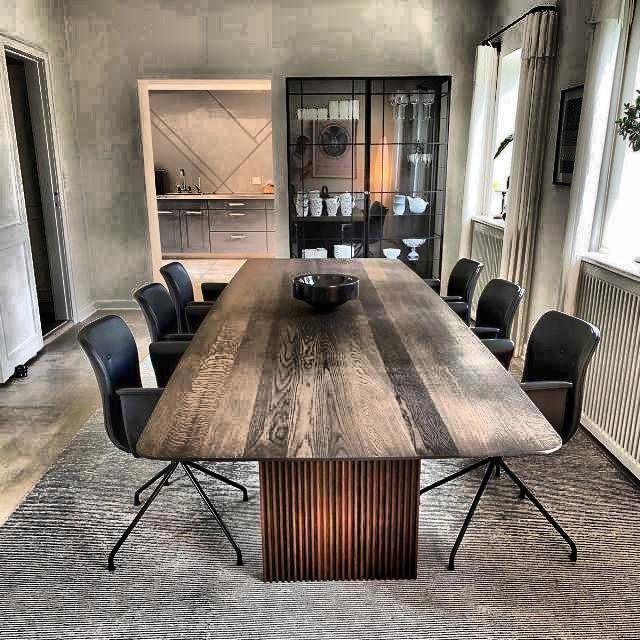mesa: (111, 222, 597, 547)
